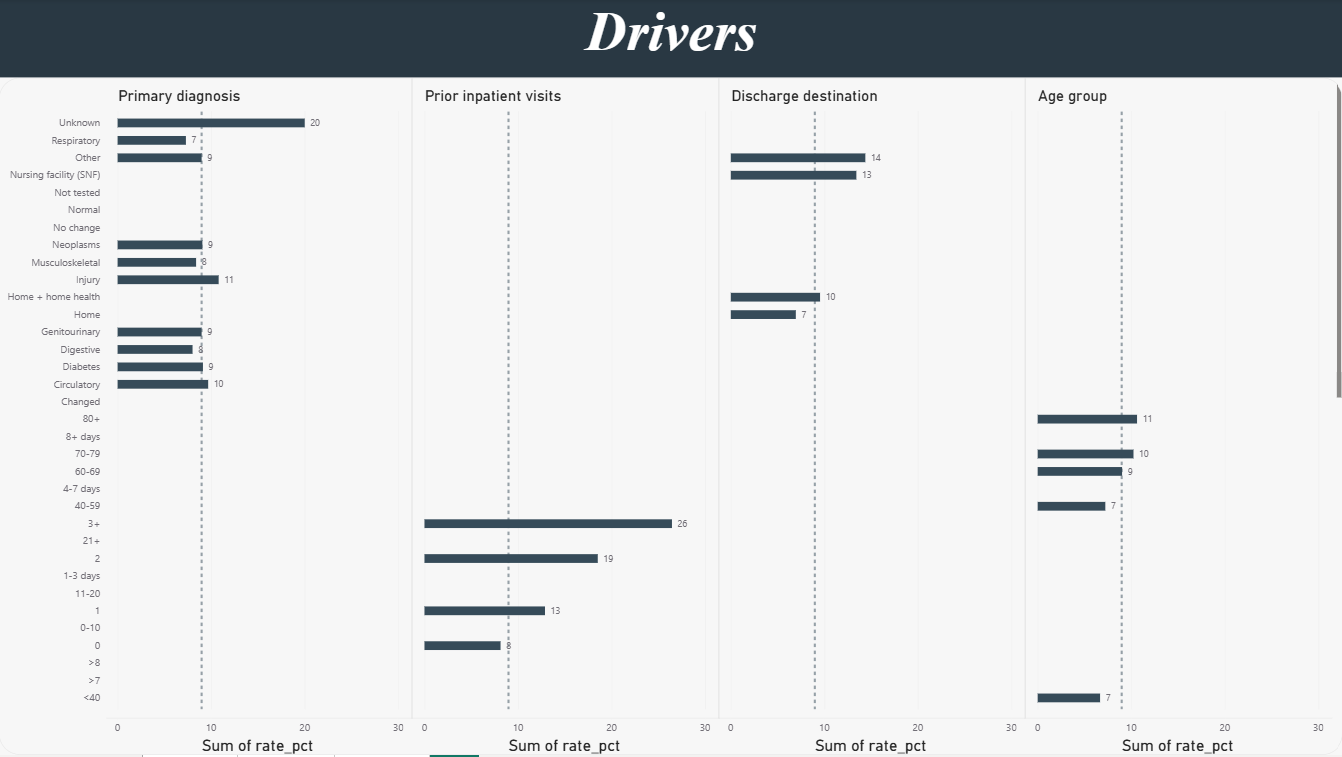

This screenshot's page, from the dashboard's own definition file:
{"tool":"powerbi","page":{"name":"Page 2","canvas":[1920,1080],"ordinal":1},"visuals":[{"type":"barChart","fields":{"Category":["driver_summary.level"],"Rows":["driver_summary.dimension"],"Y":["Sum(driver_summary.rate_pct)"]},"box":[0,111.6,1920.9,967.4],"z":0},{"type":"textbox","box":[0,0,1920.9,111.6],"z":1000}]}

Visuals, with their boxes in screenshot pixels (x1, y1, x2, y2), scaled from the page's 1920x1080 canvas onto the 1342x757 screenshot:
barChart - driver_summary.level x driver_summary.dimension: crop(0, 78, 1341, 756)
textbox: crop(0, 0, 1341, 78)
